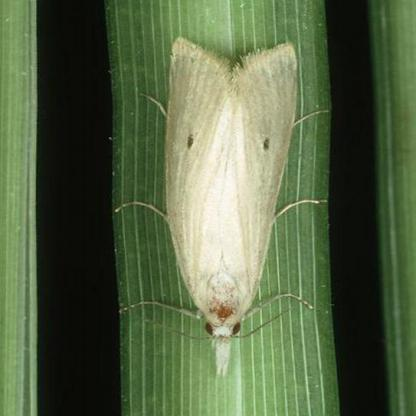stem-borer: (146, 33, 303, 380)
